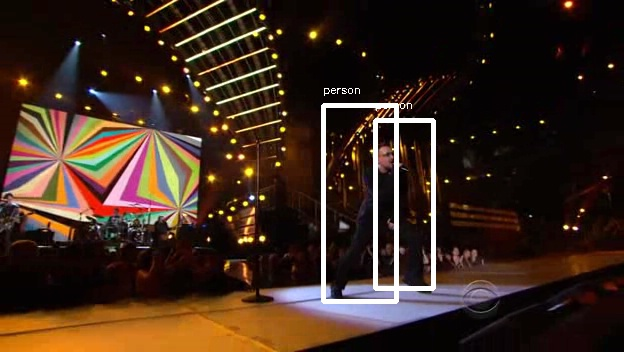person: (352, 145, 416, 248), (349, 145, 413, 248), (355, 145, 419, 248), (352, 142, 416, 245), (352, 148, 416, 251)
target_negative: (351, 124, 515, 348), (135, 21, 592, 78), (327, 208, 518, 340), (351, 297, 578, 323), (292, 166, 330, 256), (202, 270, 546, 271)
